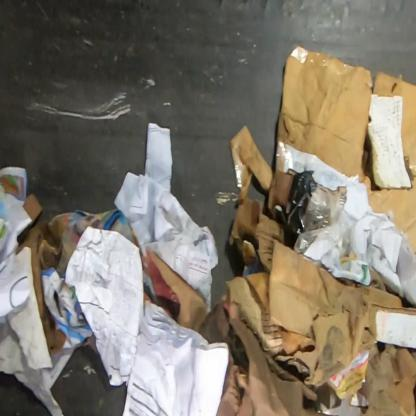cardboard: (220, 196, 415, 392), (275, 43, 416, 254), (228, 122, 273, 204), (266, 169, 294, 214)
soft_plastic: (273, 170, 355, 259)
